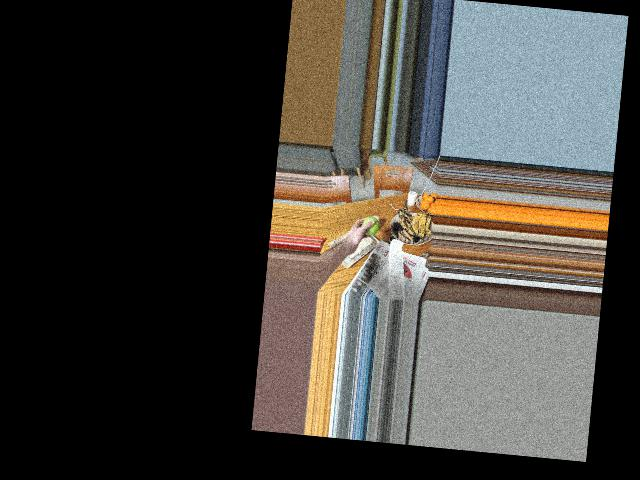apple: (359, 215, 380, 236)
